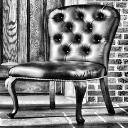chair_success: (0, 2, 122, 127)
